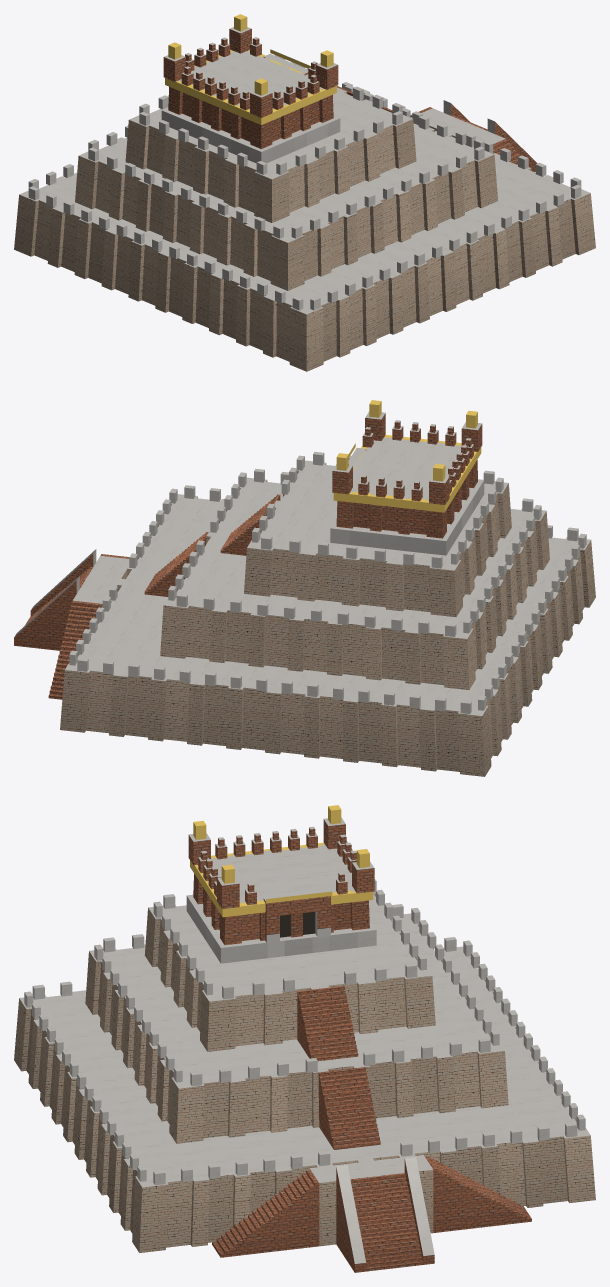
Rendered from uruk_ishtar_ziggurat.glb.
3 renders of one model, top to bottom at view 1: azimuth 30°, elevation 25°; view 2: azimuth 150°, elevation 25°; view 3: azimuth 270°, elevation 25°, orthographic. The views are drawn at different scales.
Visible parts, largest first — view 1: uruk_ishtar_ziggurat; view 2: uruk_ishtar_ziggurat; view 3: uruk_ishtar_ziggurat.
Boxes of the visible parts, box(x1,y1,x2,y2) form: uruk_ishtar_ziggurat: box(14, 14, 595, 371); uruk_ishtar_ziggurat: box(14, 400, 595, 776); uruk_ishtar_ziggurat: box(14, 805, 595, 1272).
Bounding box in the file's own units: 58.44 × 26.3 × 54.08.
Materials: 5 (3 with a texture image).
